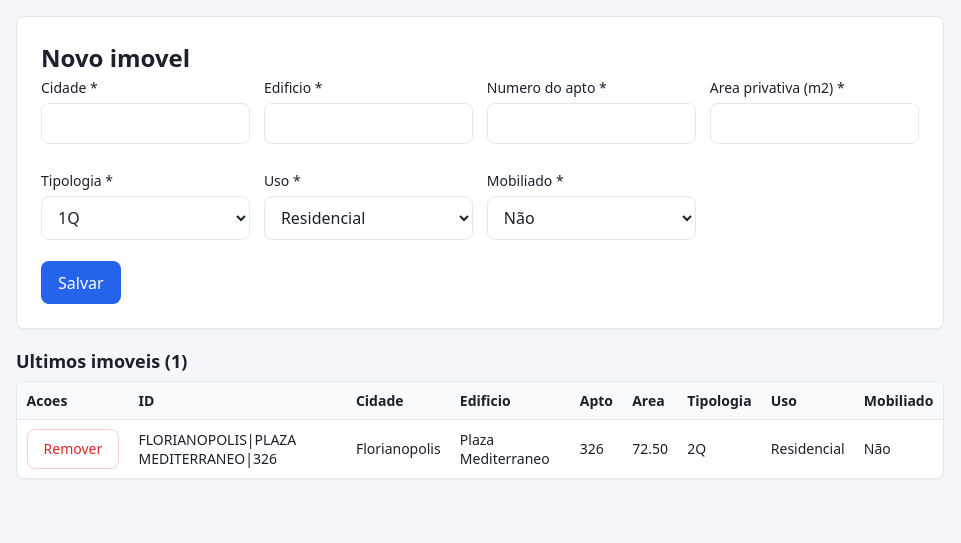
Test case: CadastroImoveisContent › removes only after confirmation and refreshes on success
The image size is (961, 543).
expect the text "Plaza Mediterraneo" is shown: met, box [450,419,570,478]
Click the button "Remover" at (73,449), box [27,429,119,469]
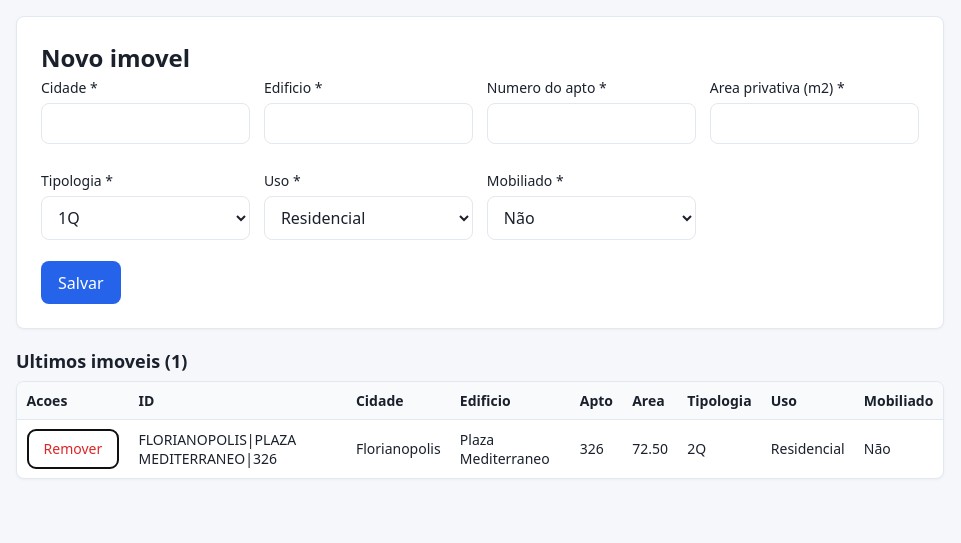
Click the button "Remover" at (73,449), box [27,429,119,469]
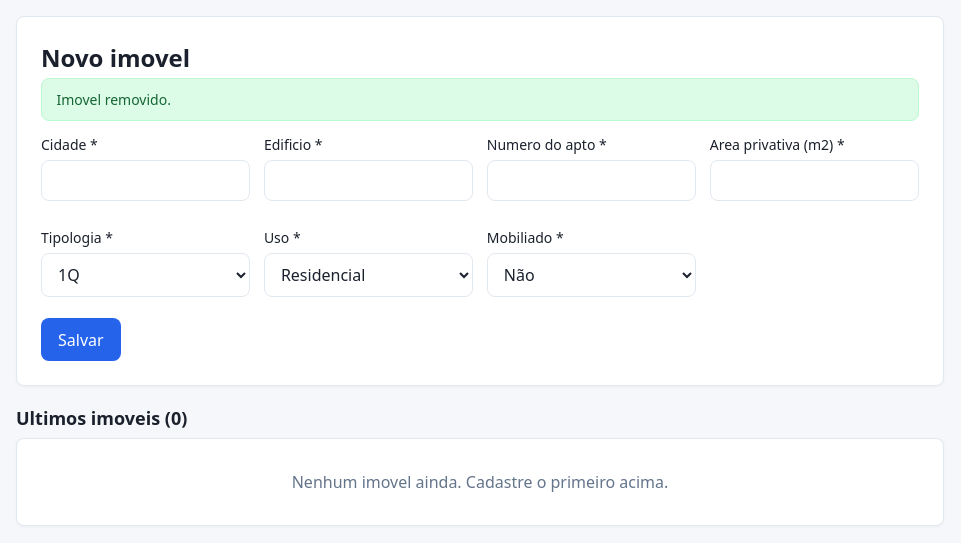
expect the text "Imovel removido." is shown: met, box [41,78,919,121]
expect the text "Nenhum imovel ainda. Cadastre o primeiro acima." is shown: met, box [292,471,668,493]
